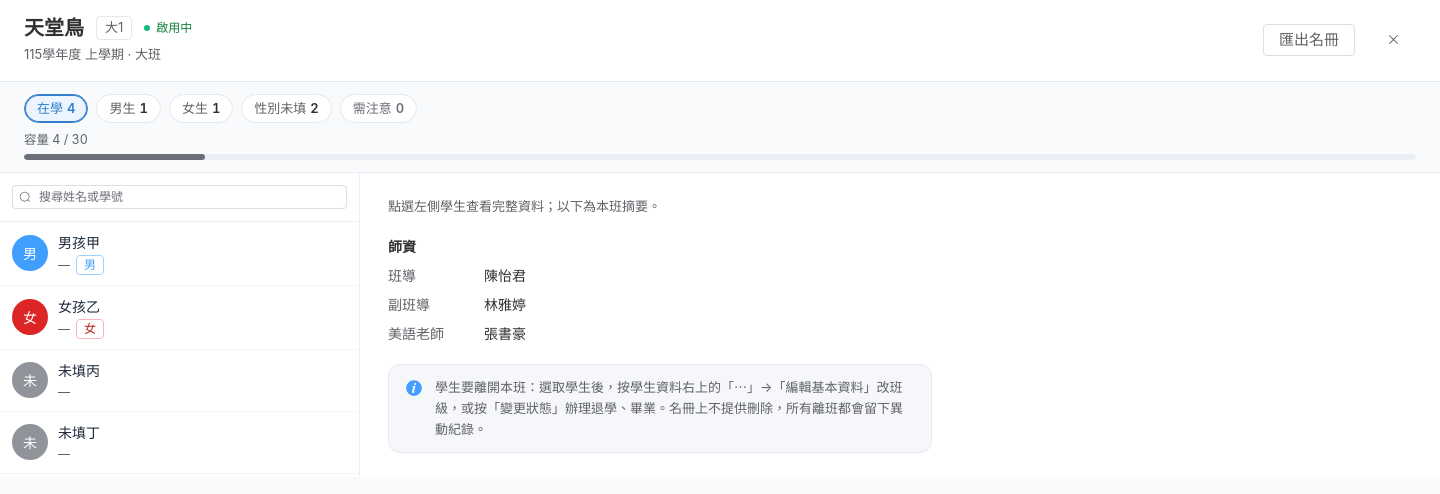
Test: ClassroomStudentDrawer 第二輪改版 › 性別篩選只剩統計 pill（移除重複的 radio group） › 「未填」pill 同值再點一次取消篩選
The width and height of the screenshot is (1440, 494).
Click the button with class "stat-pill--unknown" at coordinates (286, 108), box 241,94 -> 332,123
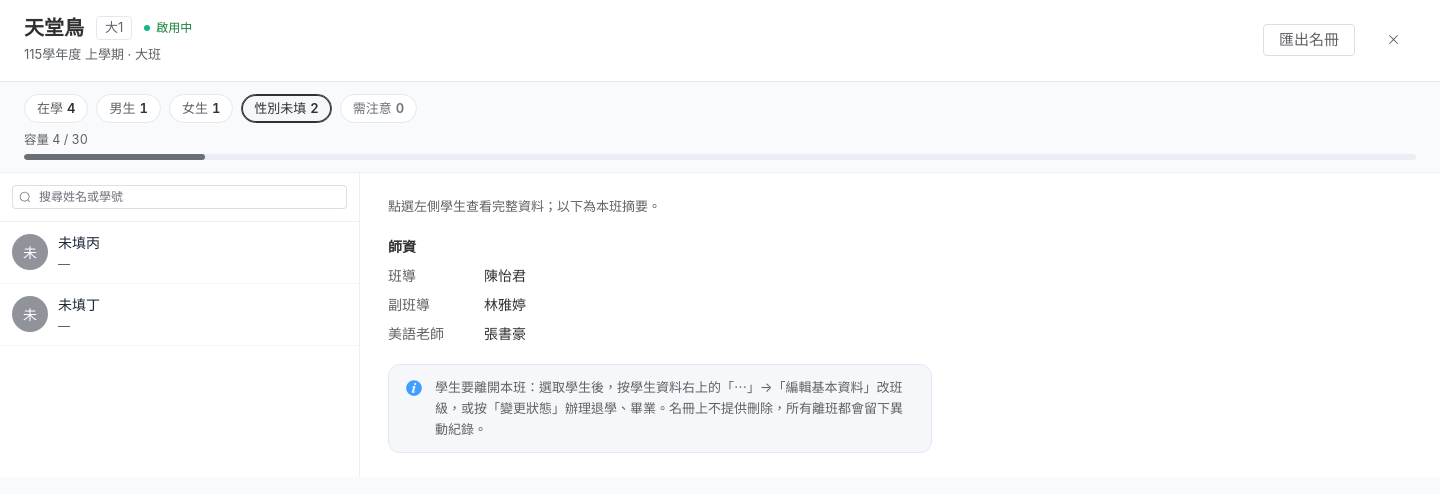
Click the button with class "stat-pill--unknown" at coordinates (286, 108), box 241,94 -> 332,123
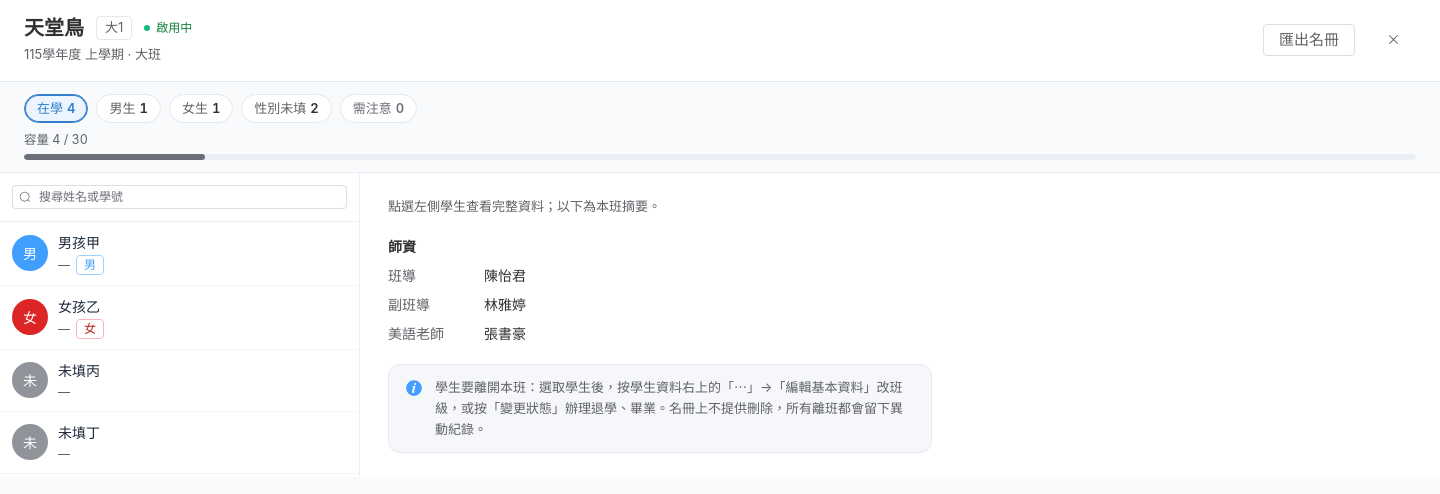
Expected: the element with class "roster-list" shows "未填丙", 58,362 -> 100,379
Result: the element with class "roster-list" shows "男孩甲" at 58,234 -> 100,251
Result: the element with class "roster-list" shows "女孩乙" at 58,298 -> 100,315
